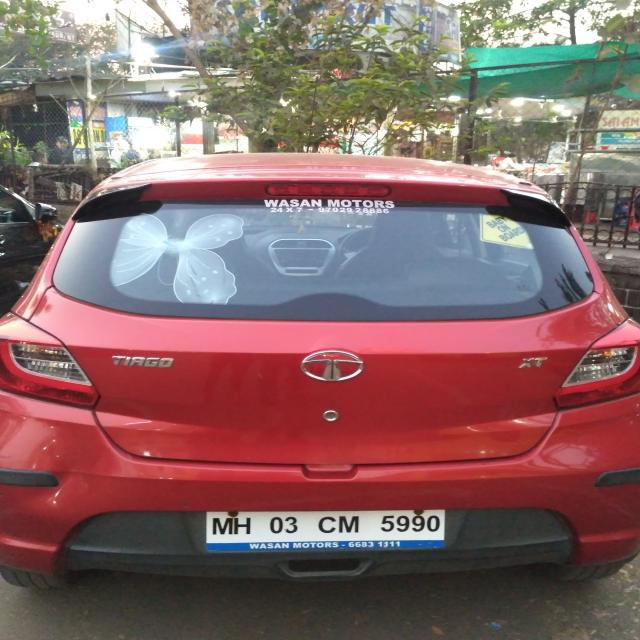Number-Plate: (208, 508, 447, 544)
